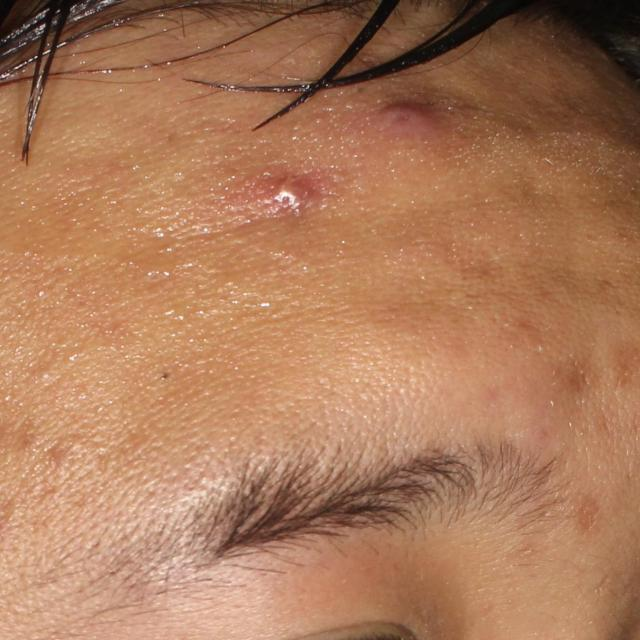nodule: (377, 104, 433, 140), (269, 178, 312, 211)
